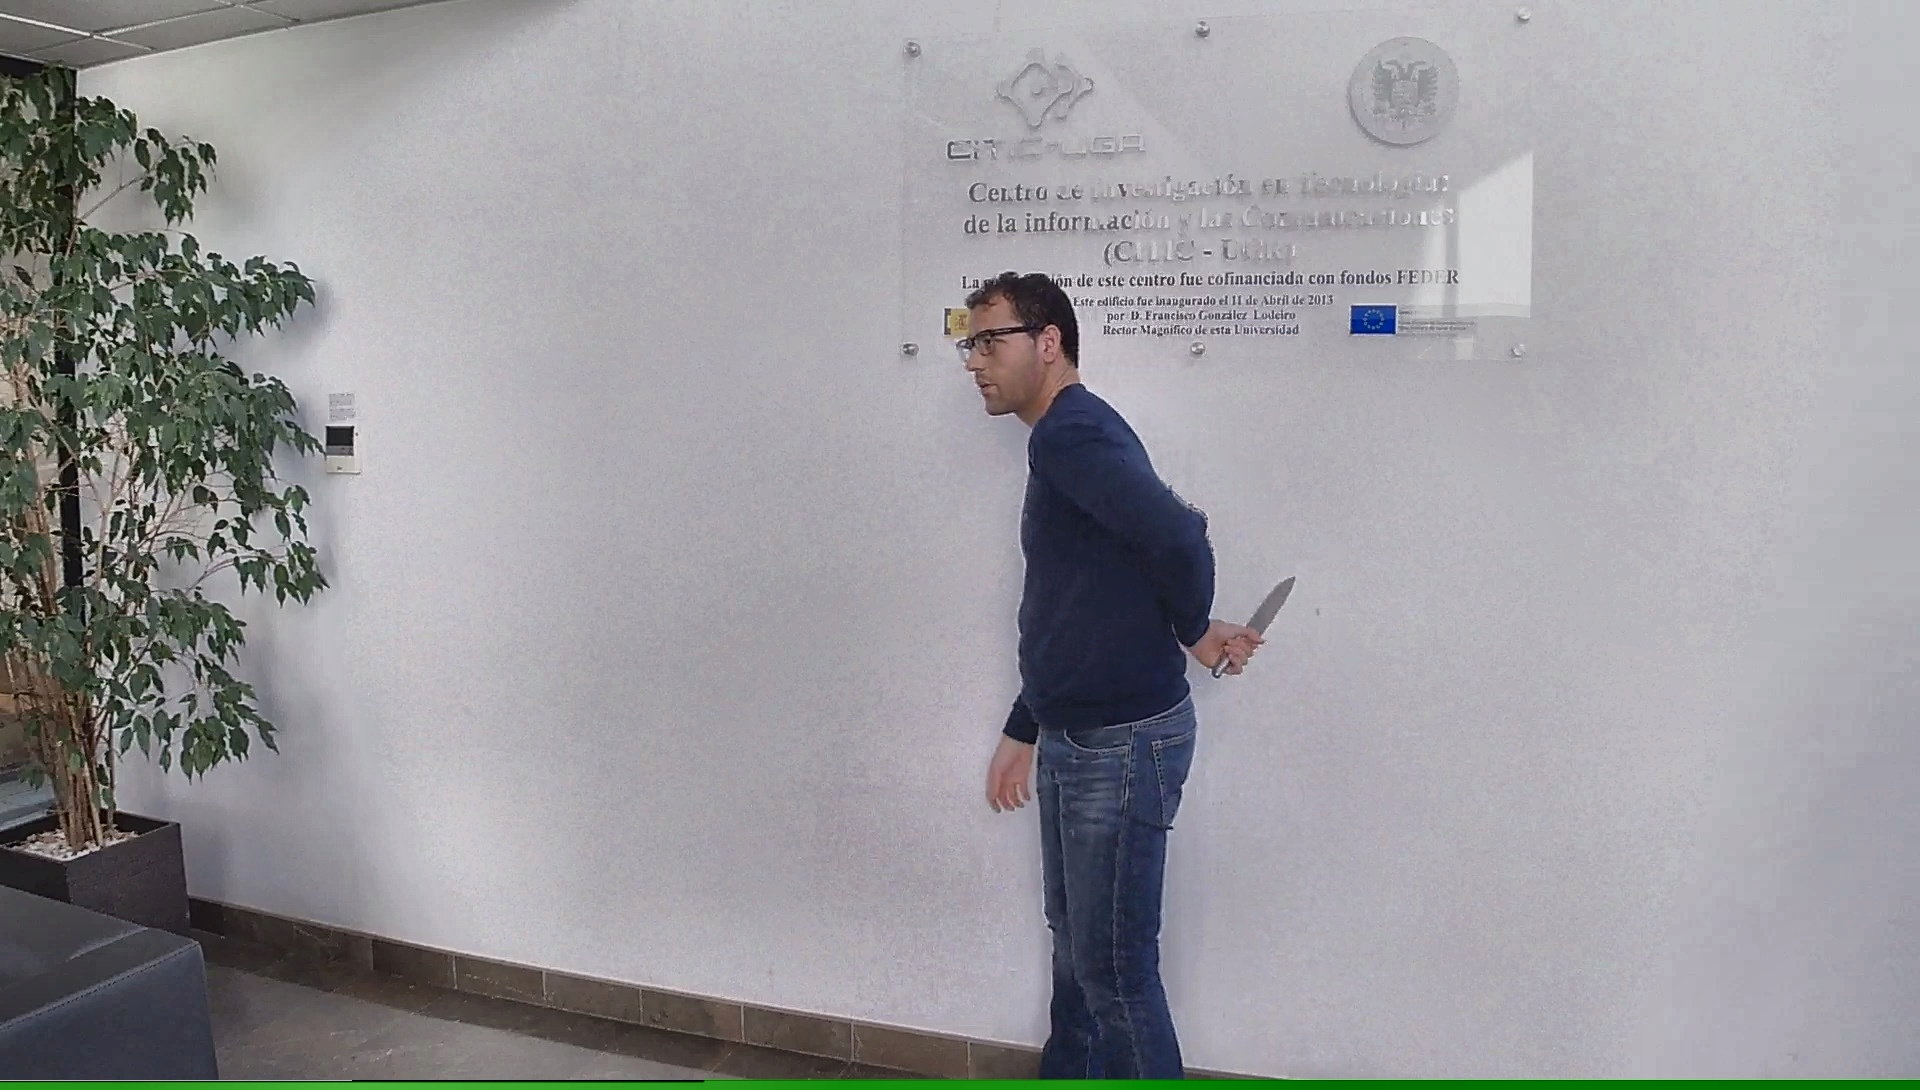knife: (1205, 569, 1305, 681)
